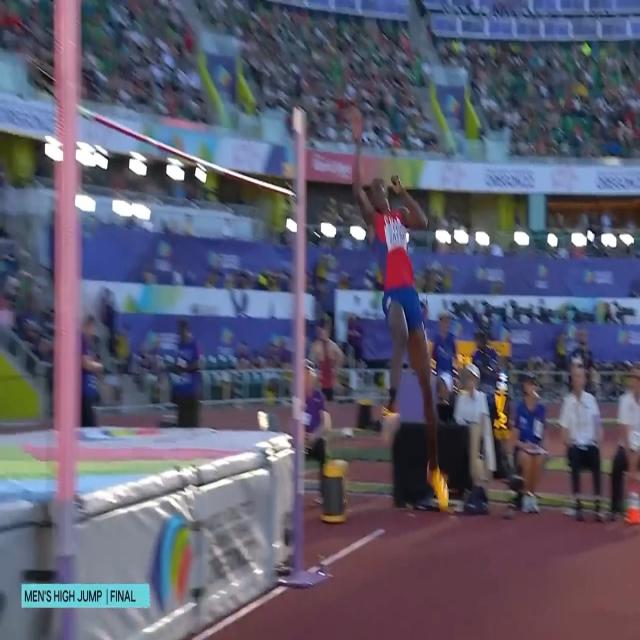jump: (352, 129, 449, 508)
